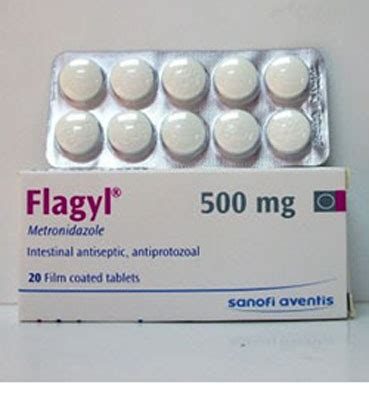Medicine: (9, 168, 356, 327)
